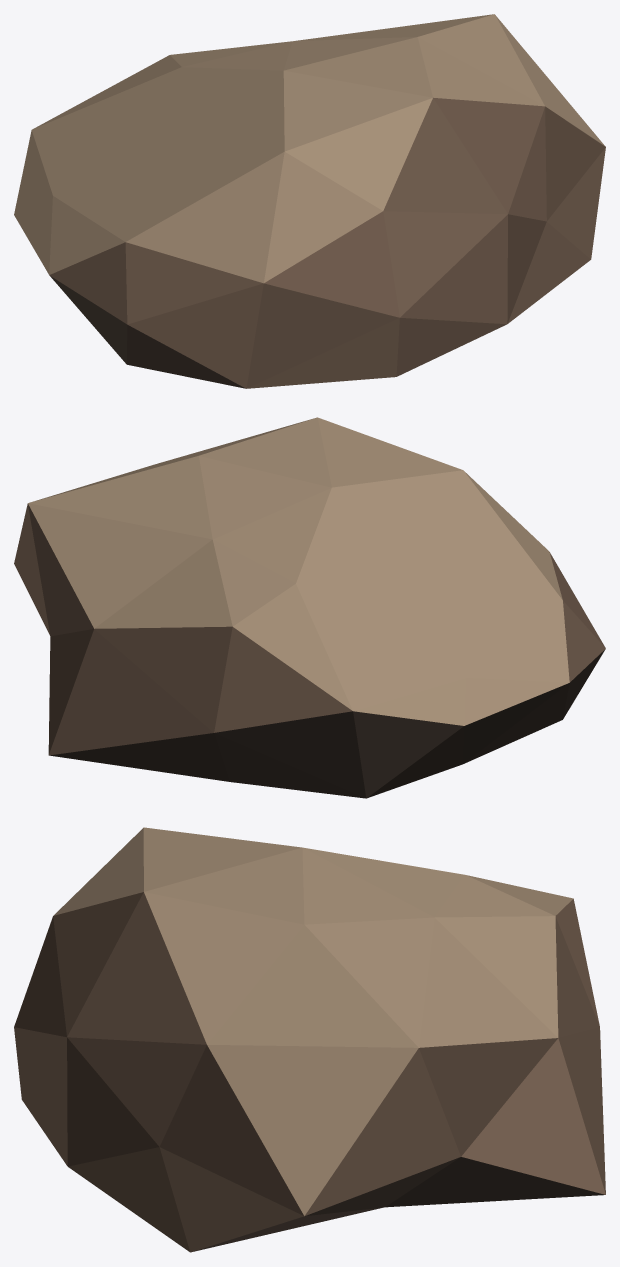
File: kamen-maly-1.glb
The picture shows the model from 3 angles, top to bottom: view 1: azimuth 30°, elevation 25°; view 2: azimuth 150°, elevation 25°; view 3: azimuth 270°, elevation 25°; orthographic projection. The views are drawn at different scales.
Parts seen in each view (by area): view 1: kamen-maly-1; view 2: kamen-maly-1; view 3: kamen-maly-1.
Part boxes in pixels (box(x1,y1,x2,y2)): kamen-maly-1: box(14, 14, 605, 388); kamen-maly-1: box(14, 417, 605, 798); kamen-maly-1: box(14, 827, 605, 1252).
Bounding box in the file's own units: 0.9146 × 0.342 × 0.7098.
